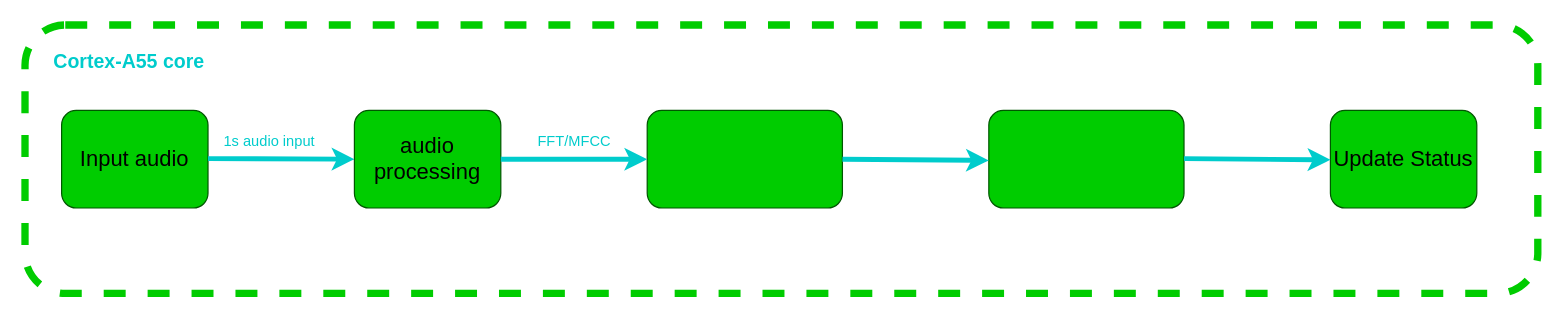
This 1562x317 diagram has some shape labels left out. The shapes that lost their labels are listed below. From the top down, each one's centre as x and y in pixels, then its label:
At (x=744, y=158): "Snoring Detection inference".
At (x=1086, y=158): "Inference result postprocessing".
